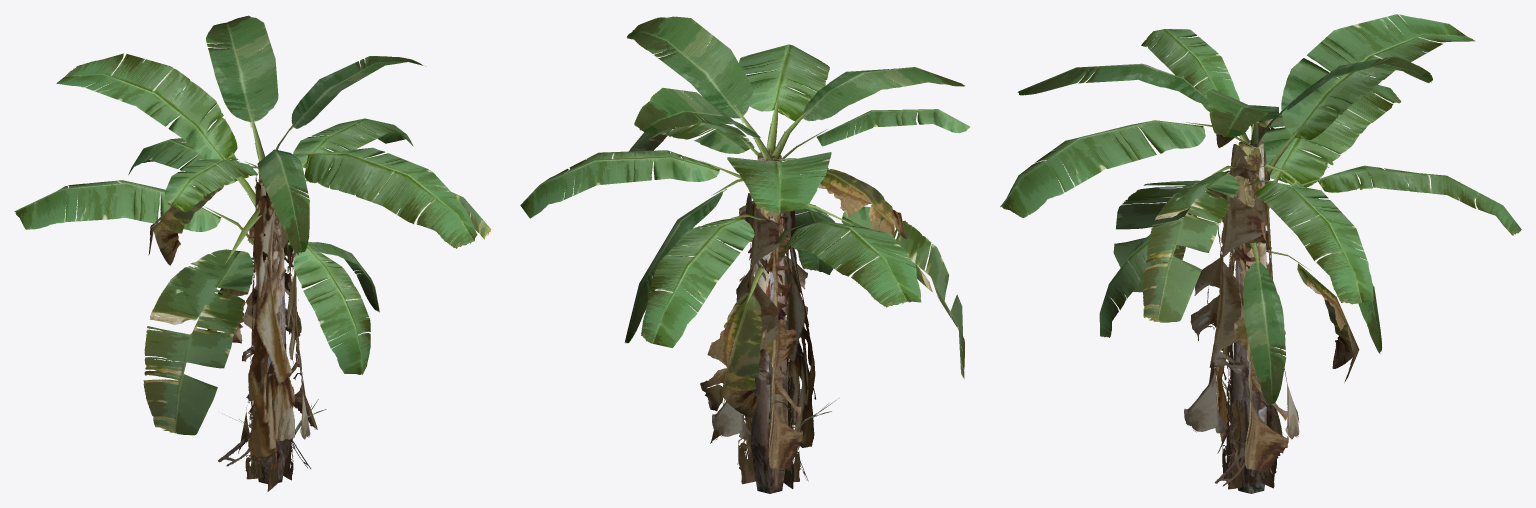
File: bajiaoshu_02.FBX
The picture shows the model from 3 angles, left to right: view 1: azimuth 30°, elevation 25°; view 2: azimuth 150°, elevation 25°; view 3: azimuth 270°, elevation 25°; orthographic projection. The views are drawn at different scales.
Parts seen in each view (by area): view 1: bajiaoshu_02; view 2: bajiaoshu_02; view 3: bajiaoshu_02.
Part boxes in pixels (<box>): bajiaoshu_02: <box>14,15,491,491</box>; bajiaoshu_02: <box>520,16,969,493</box>; bajiaoshu_02: <box>1000,14,1521,493</box>.
Size of the model in its own units: 100 by 102 by 108.
